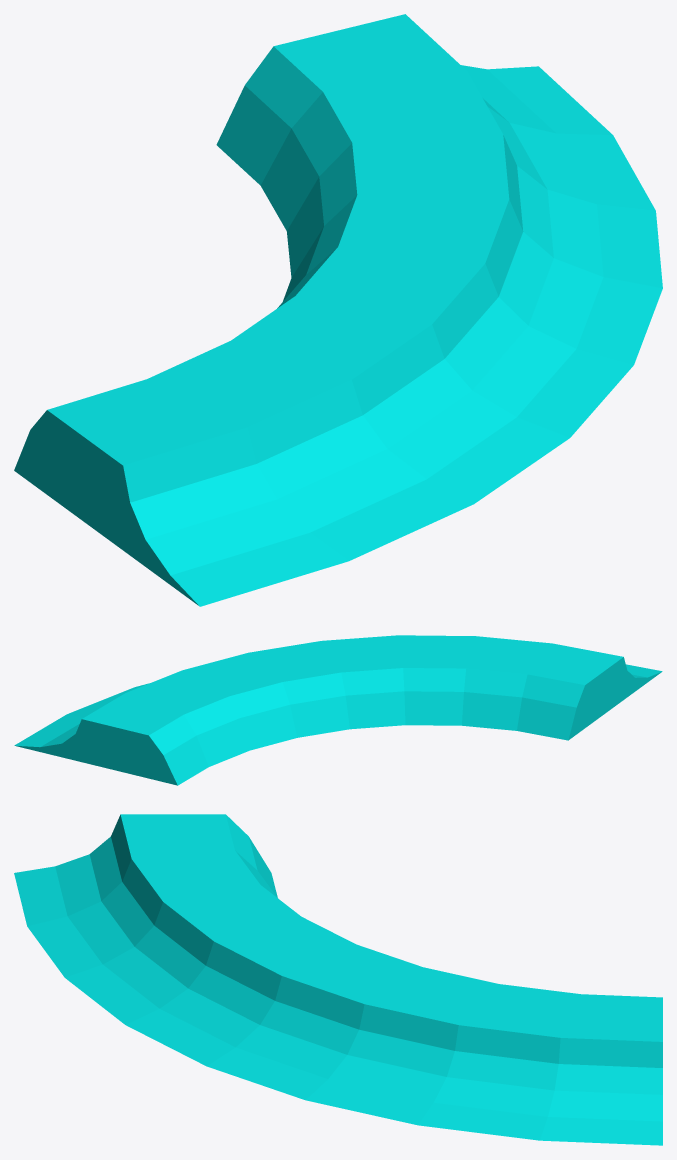
File: SM_Env_Ramp_Curve_S_L_03_Collision.fbx
3 renders of one model, top to bottom at view 1: azimuth 30°, elevation 25°; view 2: azimuth 150°, elevation 25°; view 3: azimuth 270°, elevation 25°, orthographic. The views are drawn at different scales.
Visible parts, largest first — view 1: SM_Env_Ramp_Curve_S_L_03_Collision; view 2: SM_Env_Ramp_Curve_S_L_03_Collision; view 3: SM_Env_Ramp_Curve_S_L_03_Collision.
Boxes of the visible parts, <box> form: SM_Env_Ramp_Curve_S_L_03_Collision: <box>14,14,662,606</box>; SM_Env_Ramp_Curve_S_L_03_Collision: <box>14,635,662,785</box>; SM_Env_Ramp_Curve_S_L_03_Collision: <box>14,814,662,1145</box>.
Bounding box in the file's own units: 747 × 75 × 752.
